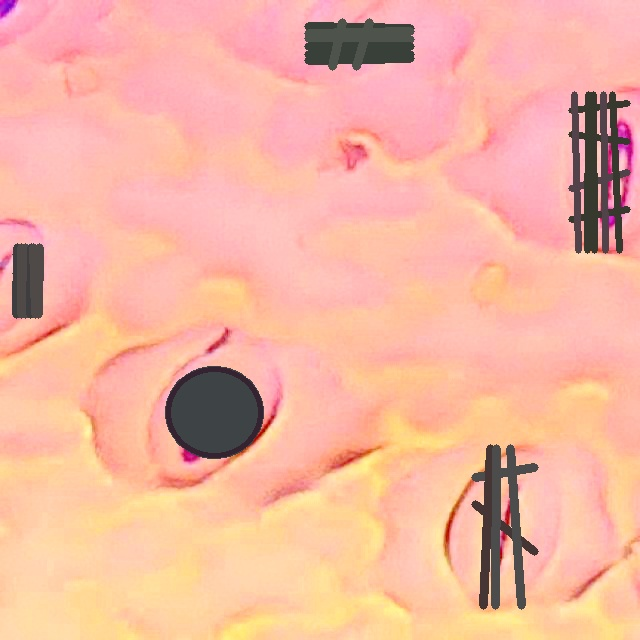close: (304, 18, 413, 69), (12, 243, 38, 318)
open: (471, 444, 538, 609), (568, 91, 630, 253), (165, 367, 263, 458)
